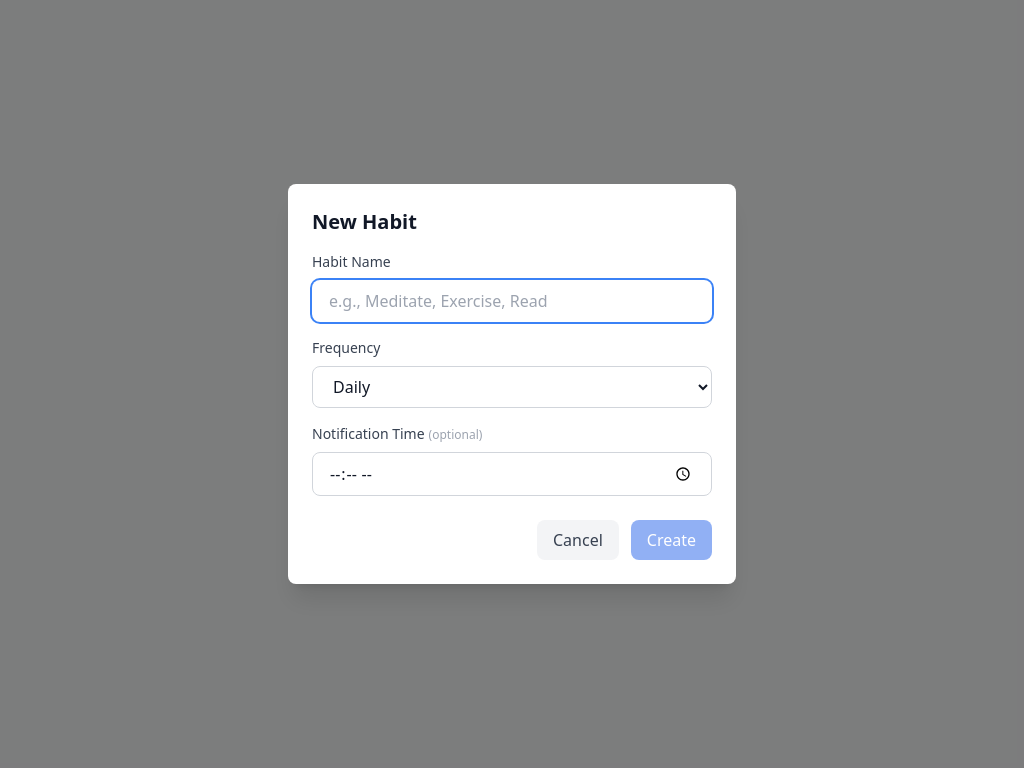
CreateHabitModal › should enable Create button when title is entered
Type "Meditate" into the field labelled "Habit Name" at coordinates (512, 301), box top-left (312, 280), bottom-right (712, 322)
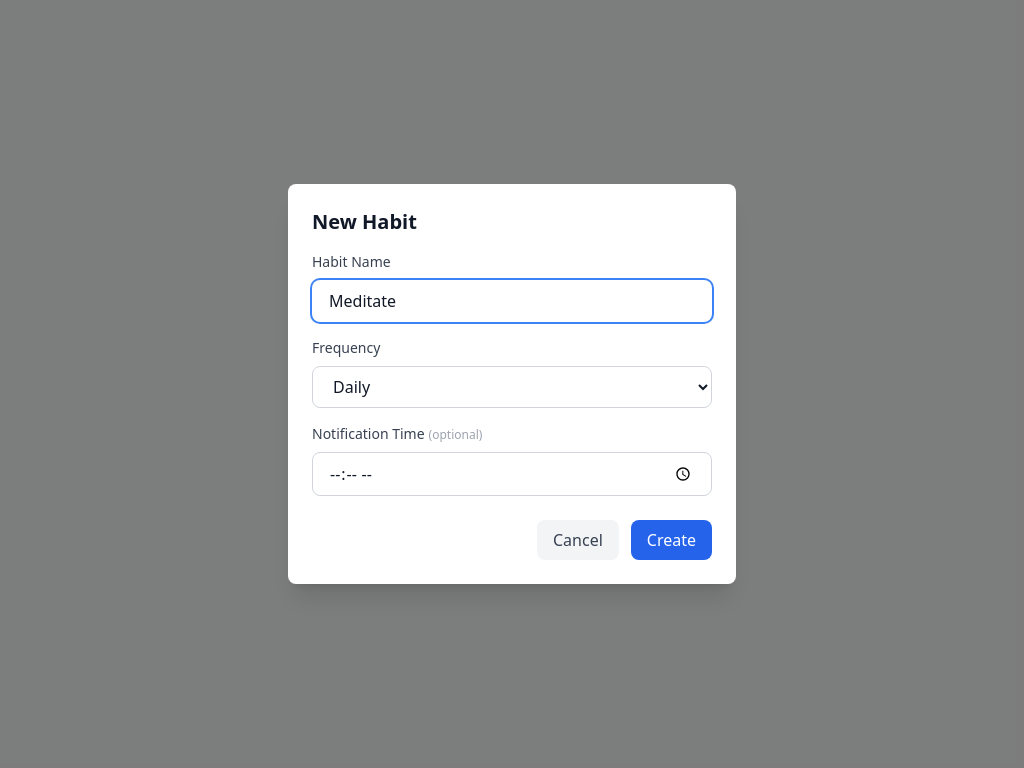
expect the button "Create" is enabled: met, box top-left (631, 520), bottom-right (712, 560)
